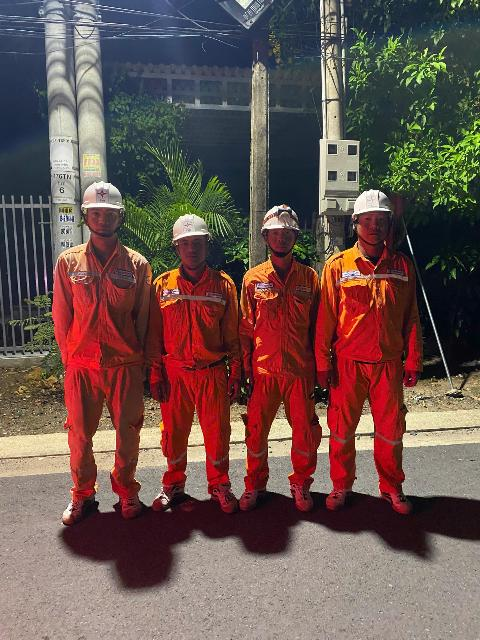helmet: (78, 176, 128, 213), (168, 207, 216, 239), (351, 186, 394, 218), (261, 202, 299, 232)
shoes: (58, 478, 98, 526), (373, 478, 413, 518), (148, 473, 186, 511), (240, 479, 274, 513), (206, 481, 238, 515), (323, 478, 355, 512), (287, 473, 312, 513), (115, 486, 143, 519)
